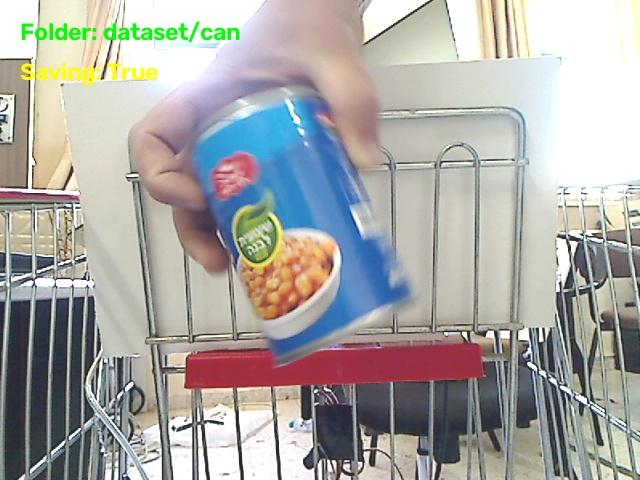can: (194, 86, 410, 363)
